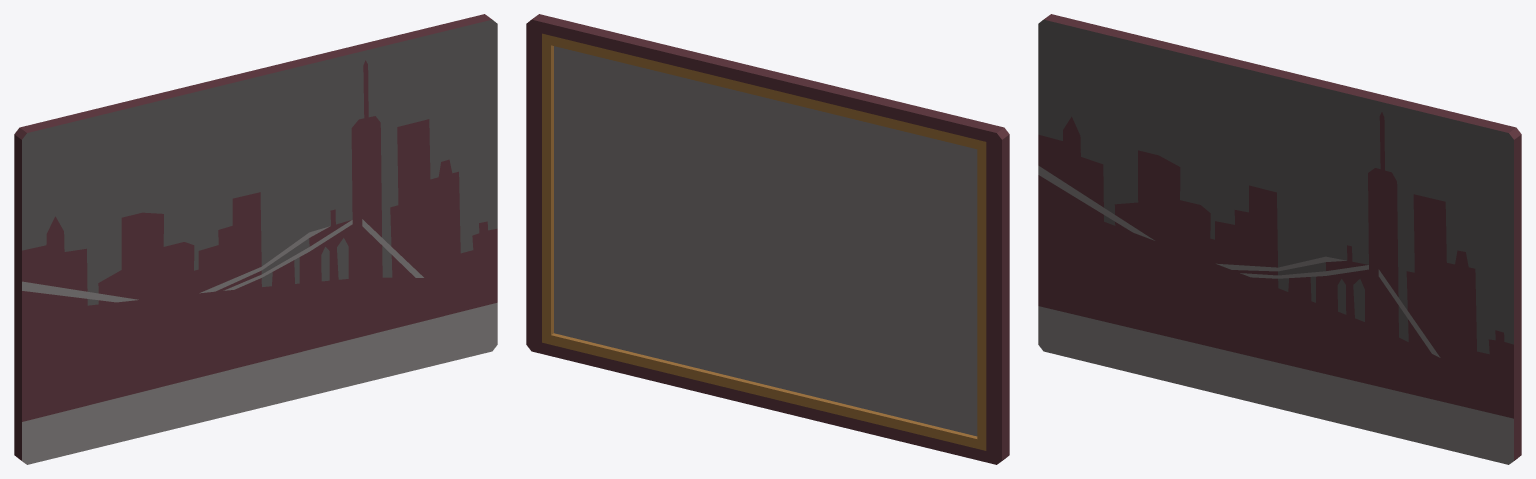
File: picture-city-night.fbx
The picture shows the model from 3 angles, left to right: view 1: azimuth 30°, elevation 25°; view 2: azimuth 150°, elevation 25°; view 3: azimuth 330°, elevation 25°; orthographic projection.
Parts seen in each view (by area): view 1: picture-city-night; view 2: picture-city-night; view 3: picture-city-night.
Part boxes in pixels (box(x1,y1,x2,y2)): picture-city-night: box(14, 14, 497, 464); picture-city-night: box(526, 14, 1009, 464); picture-city-night: box(1038, 14, 1521, 464).
Bounding box in the file's own units: 1.8 × 1.2 × 0.05.
